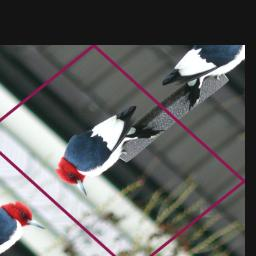Woodpecker: (38, 92, 169, 202)
